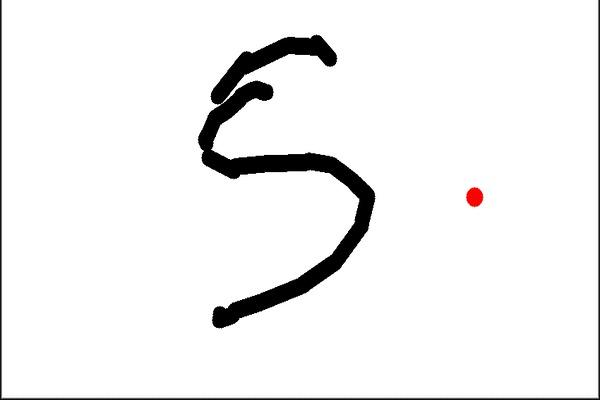S: (191, 31, 381, 331)
